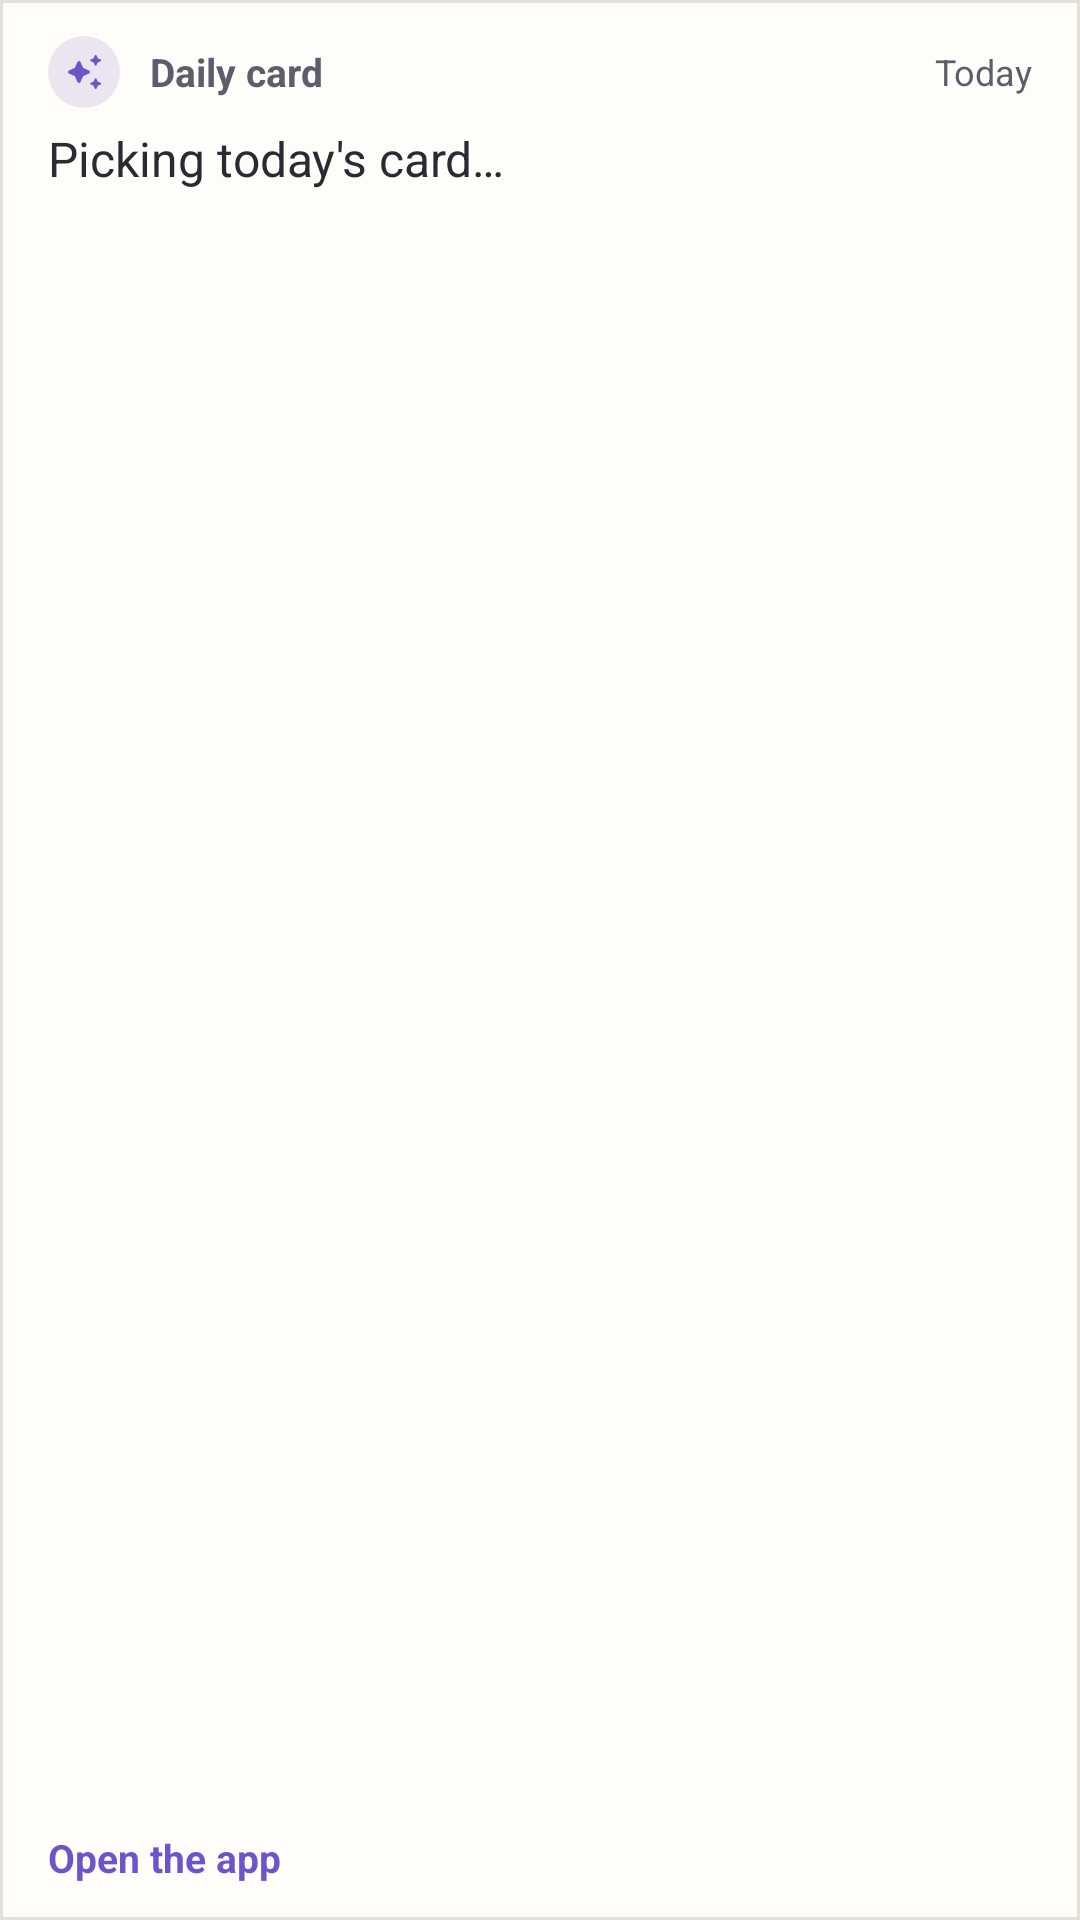

Screen size 1080x1920. Icon name, then its box in pixels as (x1, y1, x2, y2):
widget spark: (48, 36, 120, 108)
